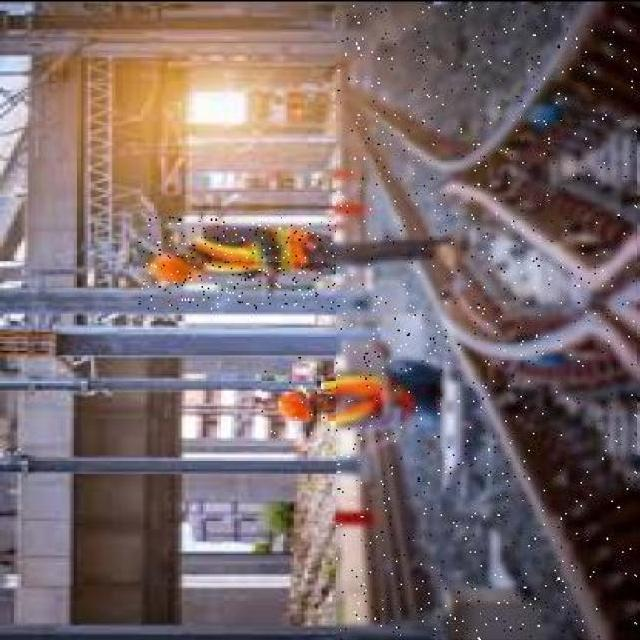rail: (338, 5, 637, 640)
